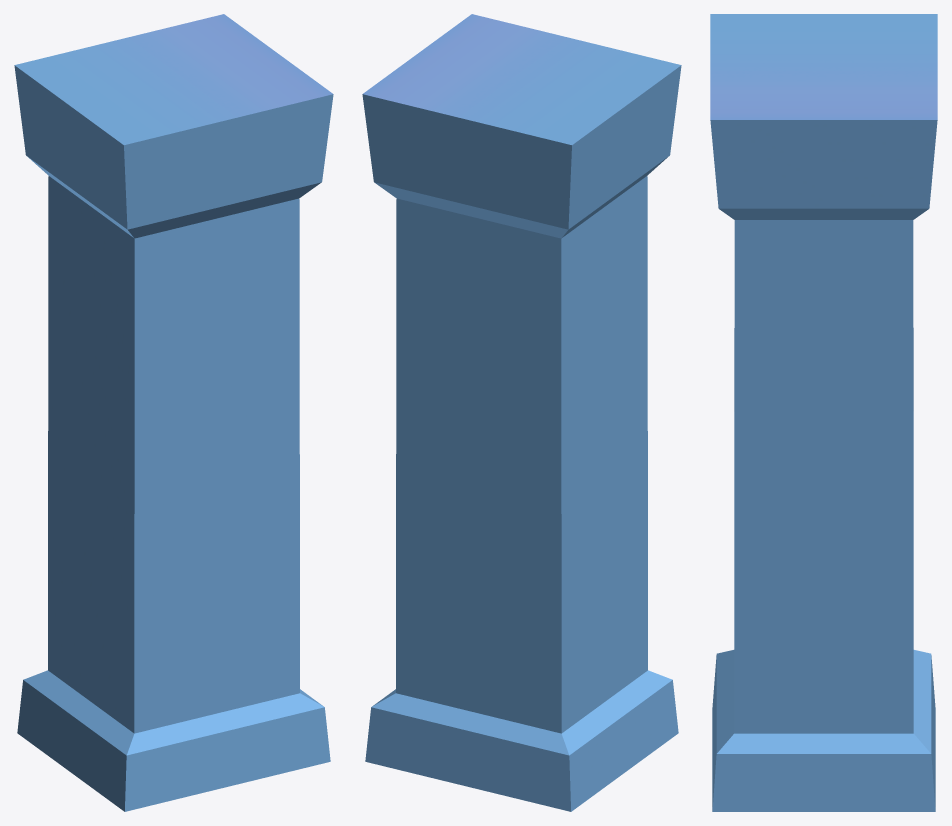
The model's file is qiang_17.FBX.
The picture shows the model from 3 angles, left to right: view 1: azimuth 30°, elevation 25°; view 2: azimuth 150°, elevation 25°; view 3: azimuth 270°, elevation 25°; orthographic projection. The views are drawn at different scales.
Parts seen in each view (by area): view 1: Object295; view 2: Object295; view 3: Object295.
Boxes of the visible parts, x1,y1,x2,y2 form: Object295: [14, 14, 333, 811]; Object295: [362, 14, 681, 811]; Object295: [710, 14, 937, 811].
Size of the model in its own units: 198 by 603 by 179.
